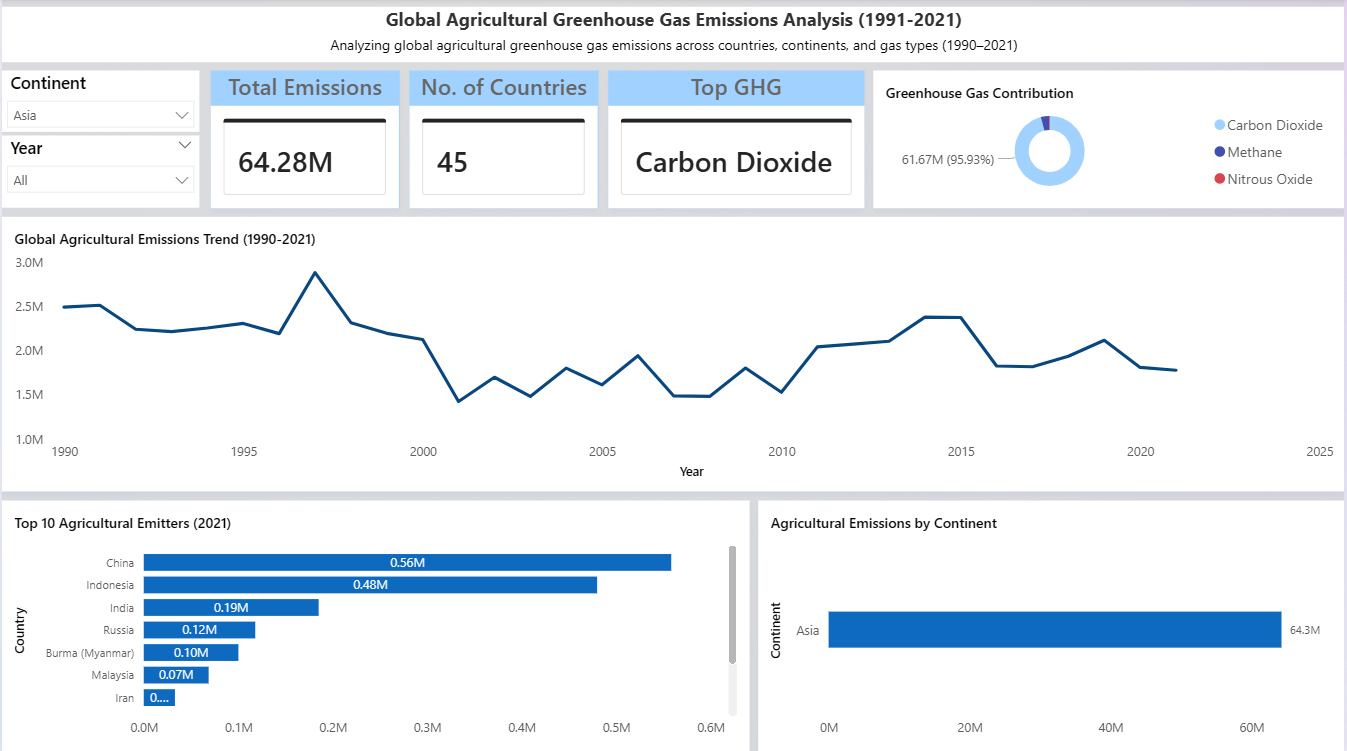

Layout of this report page (visuals, bound fields, positions):
{"tool":"powerbi","page":{"name":"Page 1","canvas":[1280,720],"ordinal":0},"visuals":[{"type":"lineChart","title":"Global Agricultural Emissions Trend (1990-2021)","fields":{"Category":["GHG_Emissions_Final.Year"],"Y":["Sum(GHG_Emissions_Final.Emission)"]},"box":[0,208.3,1279.8,261.9],"z":0},{"type":"slicer","fields":{"Values":["GHG_Emissions_Final.Continent"]},"box":[0,69,188.1,58.3],"z":1000},{"type":"clusteredBarChart","title":"Agricultural Emissions by Continent","fields":{"Category":["GHG_Emissions_Final.Continent"],"Y":["Sum(GHG_Emissions_Final.Emission)"]},"box":[720.2,478.6,559.5,241.7],"z":2000},{"type":"donutChart","title":"Greenhouse Gas Contribution","fields":{"Category":["GHG_Emissions_Final.Gas_Type"],"Y":["Sum(GHG_Emissions_Final.Emission)"]},"box":[829.8,69,450,131],"z":3000},{"type":"textbox","title":"Global Agricultural Greenhouse Gas Emissions Analysis (1990-2021)","box":[0,8.4,1280,52.8],"z":4000},{"type":"cardVisual","title":"Total Emissions","fields":{"Data":["Sum(GHG_Emissions_Final.Emission)"]},"box":[198.8,69,179.8,131],"z":5000},{"type":"slicer","fields":{"Values":["GHG_Emissions_Final.Year"]},"box":[0,131,188.1,69],"z":6000},{"type":"cardVisual","title":"No. of Countries","fields":{"Data":["Count(GHG_Emissions_Final.Country)"]},"box":[388.1,69,179.8,131],"z":7000},{"type":"cardVisual","title":"Top GHG","fields":{"Data":["Min(GHG_Emissions_Final.Gas_Type)"]},"box":[577.4,69,244,131],"z":8000},{"type":"clusteredBarChart","title":"Top 10 Agricultural Emitters (2021)","fields":{"Category":["GHG_Emissions_Final.Country"],"Y":["Sum(GHG_Emissions_Final.Emission)"]},"box":[0,478.6,711.9,241.7],"z":9000}]}

Visuals, with their boxes in screenshot pixels (x1, y1, x2, y2), scaled from the page's 1280x720 canvas onto the 1347x751 screenshot:
"Global Agricultural Emissions Trend (1990-2021)" lineChart: BBox(0, 217, 1346, 490)
slicer - GHG_Emissions_Final.Continent: BBox(0, 72, 198, 133)
"Agricultural Emissions by Continent" clusteredBarChart: BBox(758, 499, 1346, 750)
"Greenhouse Gas Contribution" donutChart: BBox(873, 72, 1346, 209)
"Global Agricultural Greenhouse Gas Emissions Analysis (1990-2021)" textbox: BBox(0, 9, 1346, 64)
"Total Emissions" cardVisual: BBox(209, 72, 398, 209)
slicer - GHG_Emissions_Final.Year: BBox(0, 137, 198, 209)
"No. of Countries" cardVisual: BBox(408, 72, 598, 209)
"Top GHG" cardVisual: BBox(608, 72, 864, 209)
"Top 10 Agricultural Emitters (2021)" clusteredBarChart: BBox(0, 499, 749, 750)
